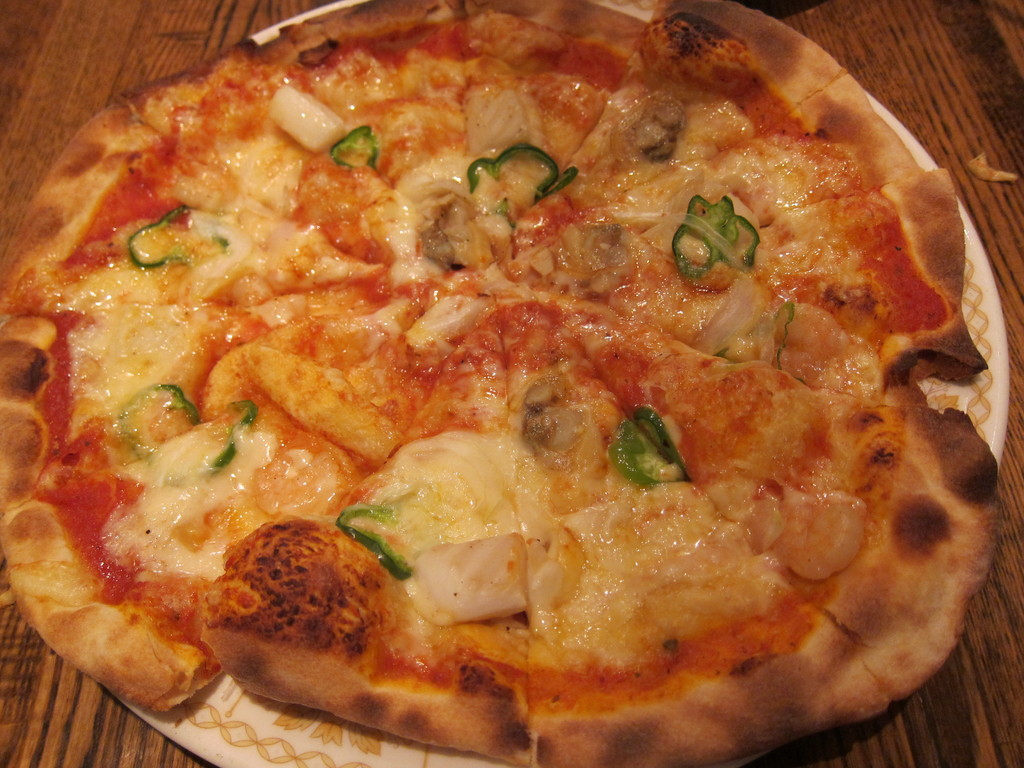Pizza: (0, 0, 1001, 767)
